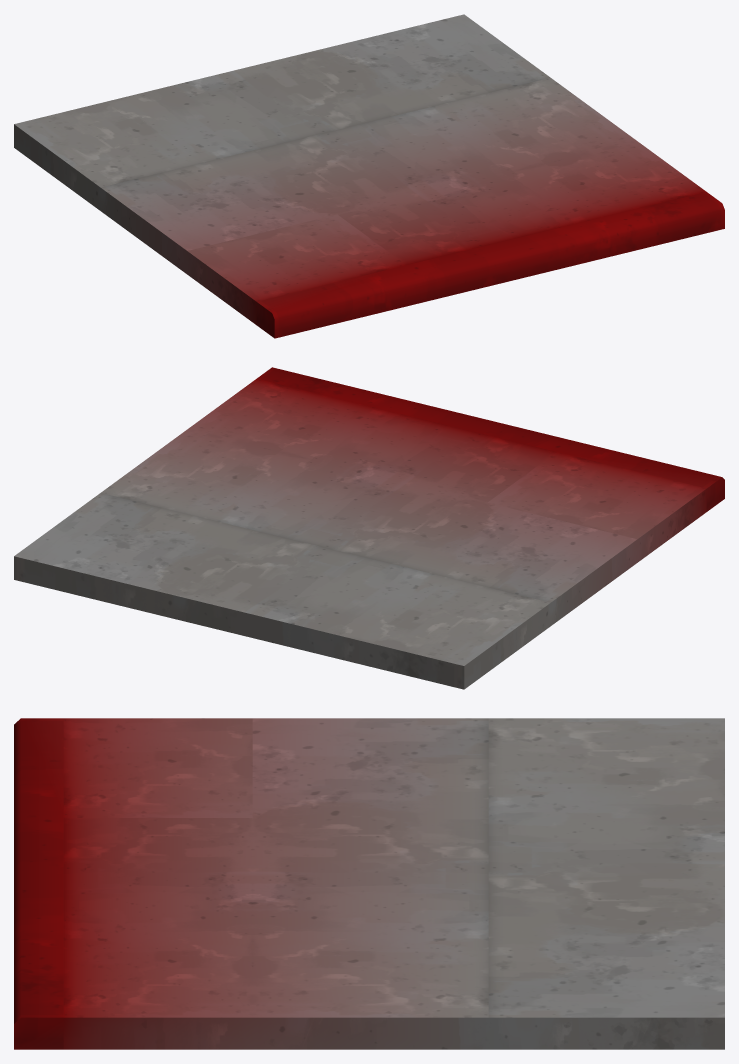
File: Sidewalk_Straight_3m.gltf
3 renders of one model, top to bottom at view 1: azimuth 30°, elevation 25°; view 2: azimuth 150°, elevation 25°; view 3: azimuth 270°, elevation 25°, orthographic. The views are drawn at different scales.
Visible parts, largest first — view 1: Sidewalk_Straight_3m; view 2: Sidewalk_Straight_3m; view 3: Sidewalk_Straight_3m.
Part boxes in pixels (x1,y1,x2,y2): Sidewalk_Straight_3m: (14,14,724,338); Sidewalk_Straight_3m: (14,367,724,689); Sidewalk_Straight_3m: (14,718,724,1049).
Size of the model in its own units: 3 by 0.15 by 3.01.
1 material, 1 textured.
